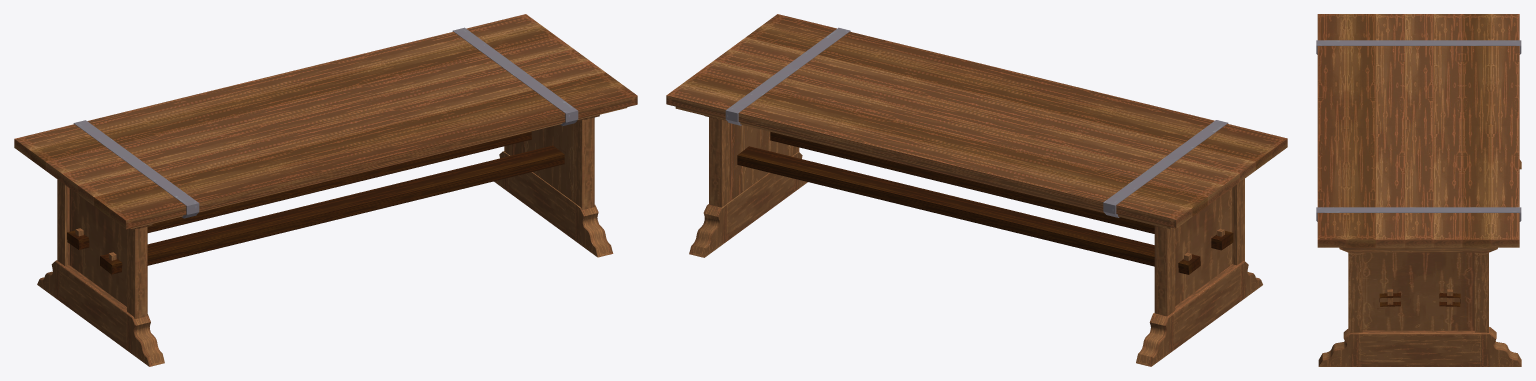
The model's file is Table_Large.gltf.
The picture shows the model from 3 angles, left to right: view 1: azimuth 30°, elevation 25°; view 2: azimuth 150°, elevation 25°; view 3: azimuth 270°, elevation 25°; orthographic projection. The views are drawn at different scales.
Visible parts, largest first — view 1: Table_Large; view 2: Table_Large; view 3: Table_Large.
Boxes of the visible parts, <box> form: Table_Large: <box>14,14,637,366</box>; Table_Large: <box>666,14,1287,366</box>; Table_Large: <box>1316,14,1521,366</box>.
Bounding box in the file's own units: 2.85 × 0.8134 × 1.1.
Materials: 2 (2 with a texture image).
